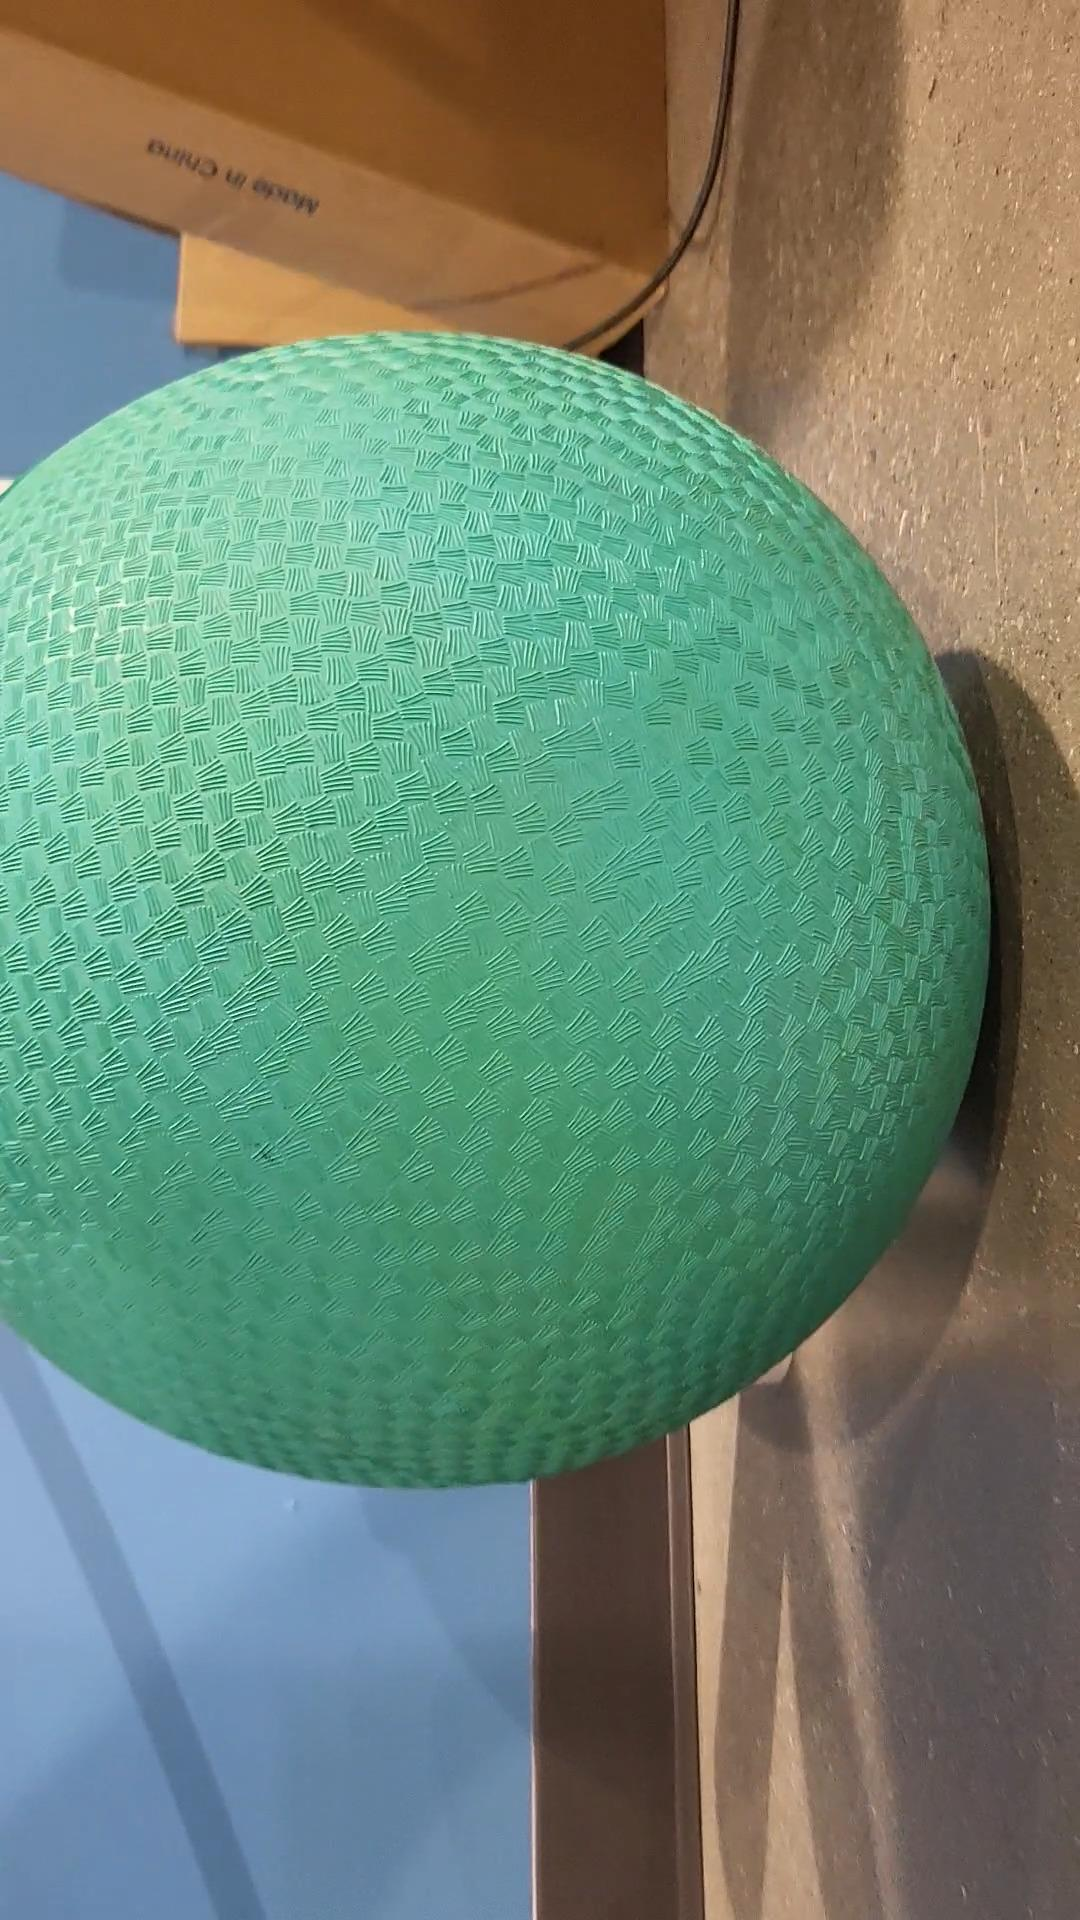algae: (0, 316, 1004, 1499)
